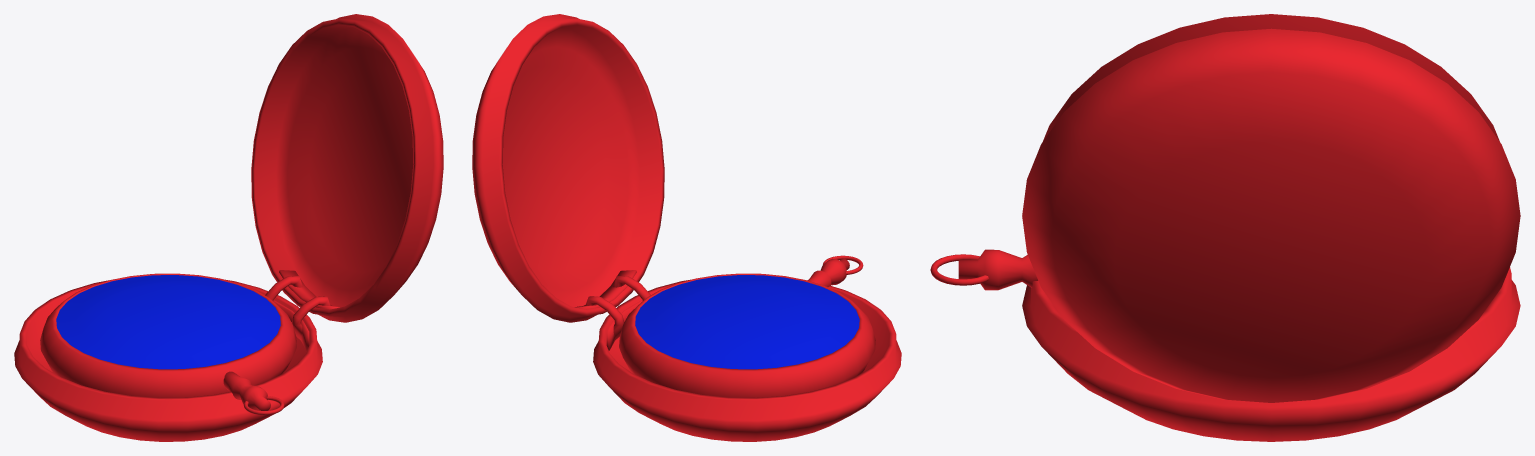
File: M_Montre_Gousset.fbx
The picture shows the model from 3 angles, left to right: view 1: azimuth 30°, elevation 25°; view 2: azimuth 150°, elevation 25°; view 3: azimuth 270°, elevation 25°; orthographic projection. The views are drawn at different scales.
Parts seen in each view (by area): view 1: Montre_Gousset, Verre; view 2: Montre_Gousset, Verre; view 3: Montre_Gousset.
Boxes of the visible parts, x1,y1,x2,y2 form: Montre_Gousset: (14,14,443,441); Verre: (56,275,280,369); Montre_Gousset: (472,14,901,441); Verre: (635,275,859,369); Montre_Gousset: (930,14,1520,441).
Size of the model in its own units: 15.44 by 12.53 by 13.09.
